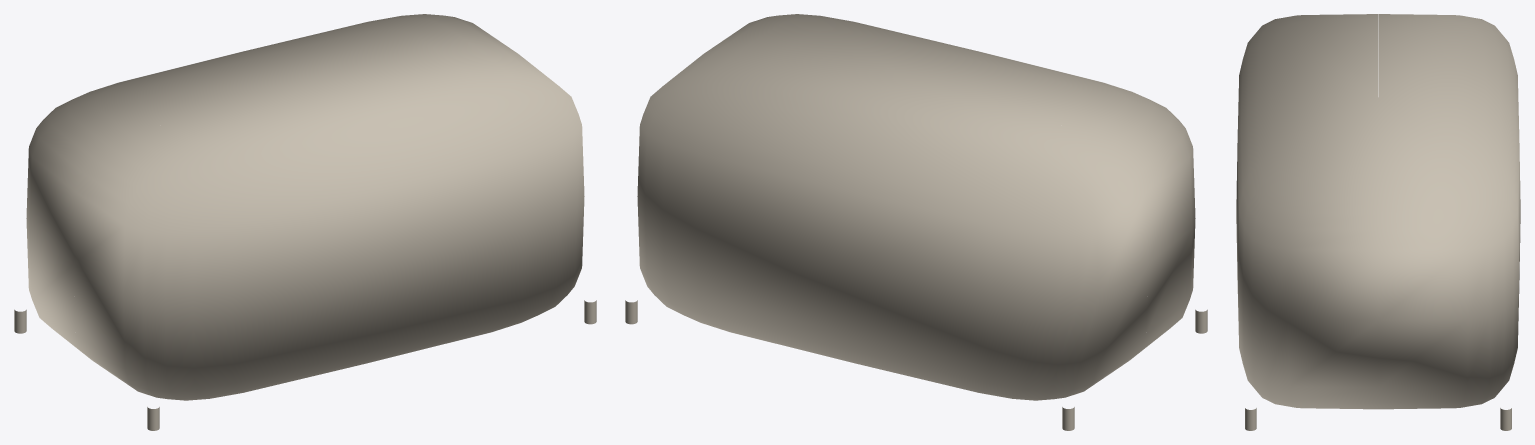
The model's file is ikea-gronlid-80432415-g2-proxy.glb.
3 views of the same model, side by side, from view 1: azimuth 30°, elevation 25°; view 2: azimuth 150°, elevation 25°; view 3: azimuth 270°, elevation 25° (orthographic). The views are drawn at different scales.
Parts seen in each view (by area): view 1: proxy_body; view 2: proxy_body; view 3: proxy_body.
Part boxes in pixels (left/top/right/bottom): proxy_body: left=26, top=14, right=584, bottom=400; proxy_body: left=637, top=14, right=1195, bottom=400; proxy_body: left=1236, top=14, right=1520, bottom=409.
Size of the model in its own units: 1.77 by 0.87 by 0.98.
